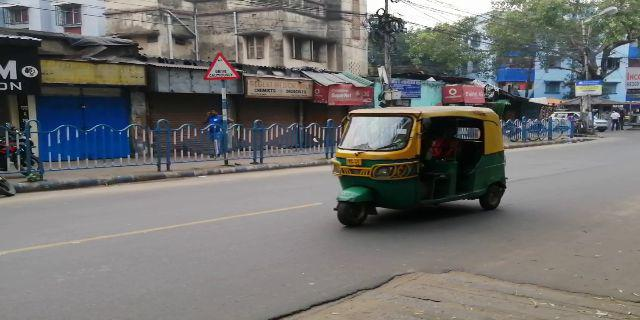Autorickshaw: (334, 110, 513, 217)
